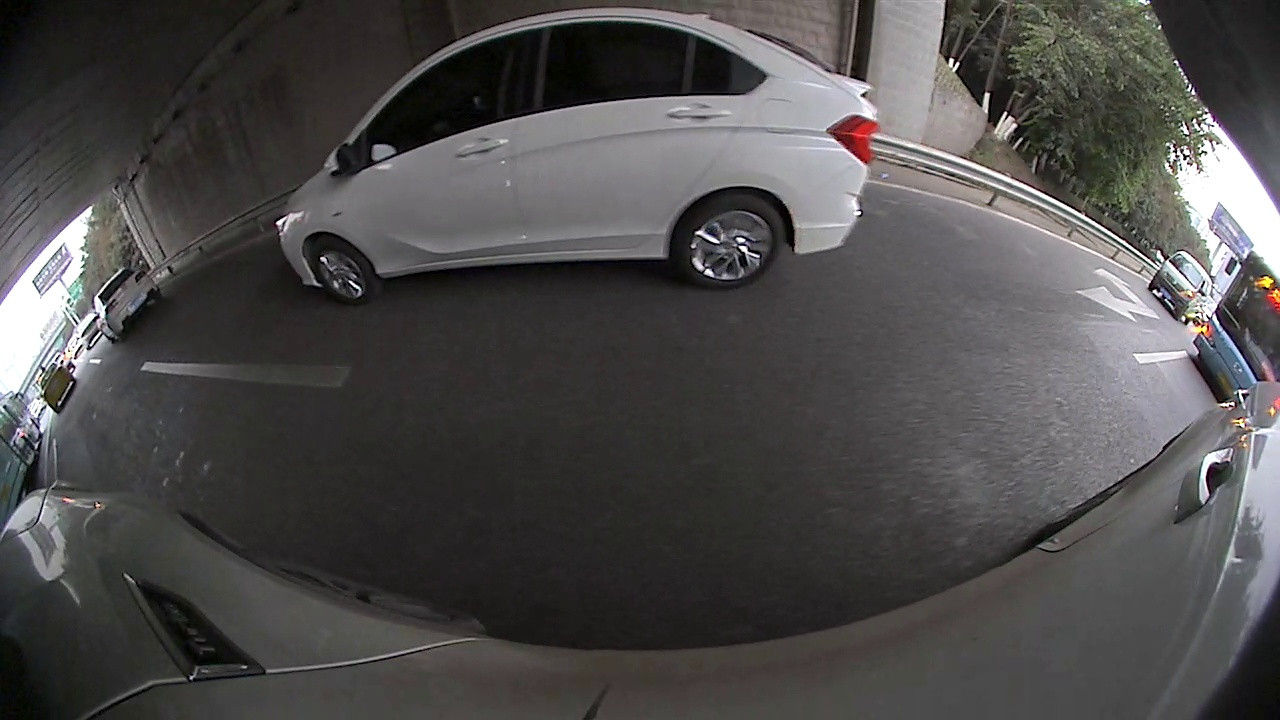bus: (748, 1, 1222, 371)
car: (132, 154, 243, 245), (53, 237, 137, 320), (1187, 380, 1248, 458)
front: (173, 204, 192, 230)
rear: (1063, 293, 1139, 371), (142, 224, 159, 245)
